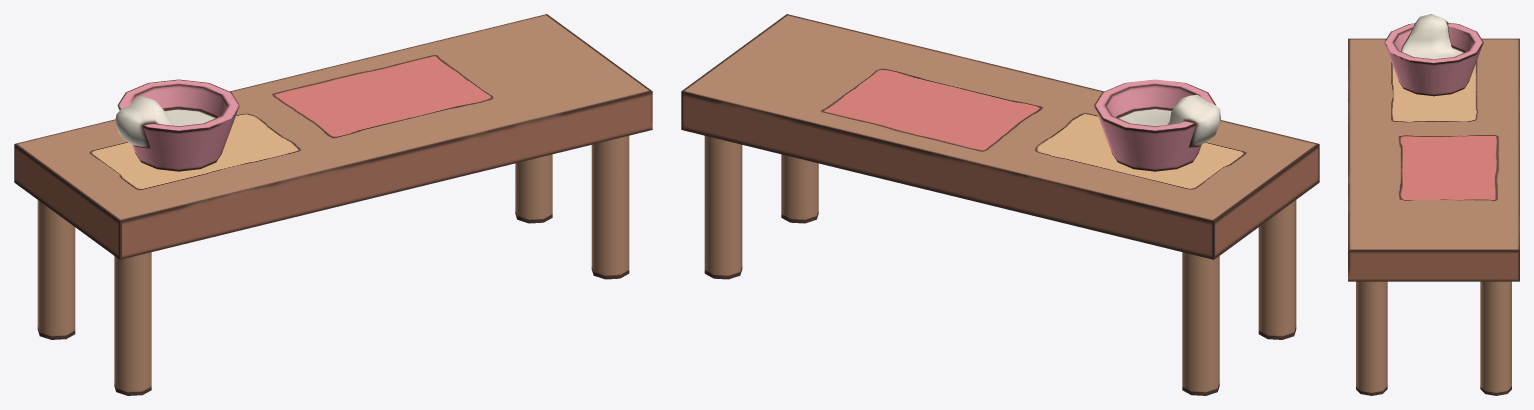
The model's file is Bakery Table.fbx.
The picture shows the model from 3 angles, left to right: view 1: azimuth 30°, elevation 25°; view 2: azimuth 150°, elevation 25°; view 3: azimuth 270°, elevation 25°; orthographic projection. The views are drawn at different scales.
Parts seen in each view (by area): view 1: Bakery_Table; view 2: Bakery_Table; view 3: Bakery_Table.
Part boxes in pixels (<box>): Bakery_Table: <box>14,14,652,395</box>; Bakery_Table: <box>681,14,1319,395</box>; Bakery_Table: <box>1348,14,1519,395</box>.
Size of the model in its own units: 255 by 115 by 87.56.
1 material, 1 textured.
